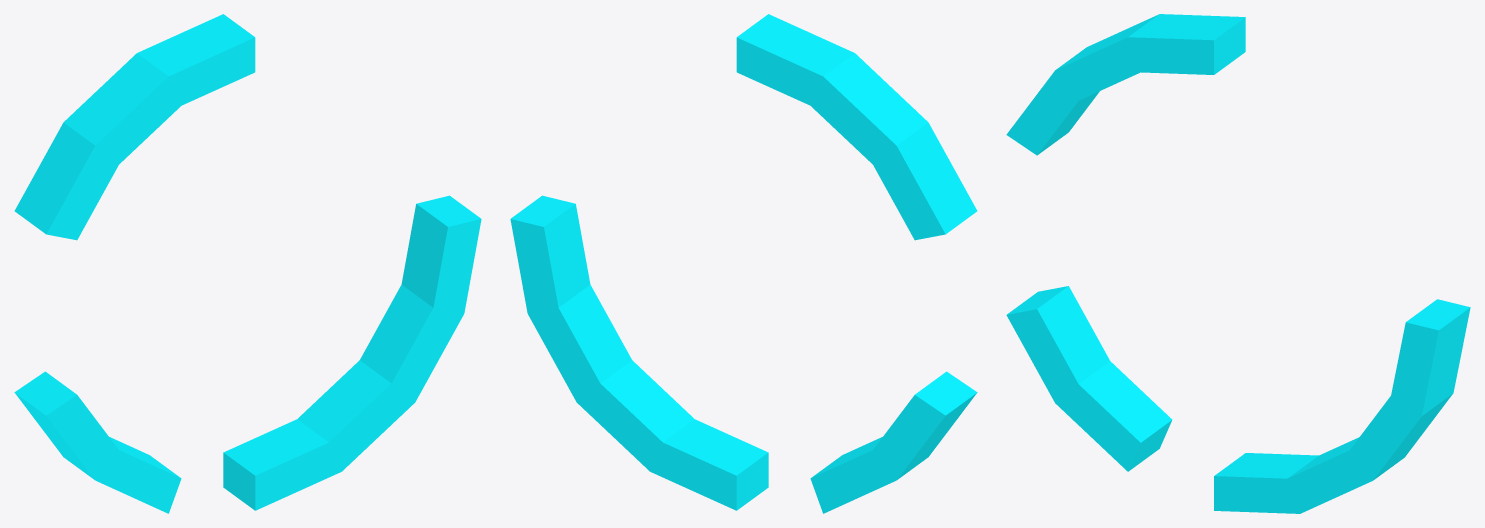
The model's file is SM_Hud_Rings_02.glb.
3 renders of one model, left to right at view 1: azimuth 30°, elevation 25°; view 2: azimuth 150°, elevation 25°; view 3: azimuth 330°, elevation 25°, orthographic.
Parts seen in each view (by area): view 1: SM_Hud_Rings_02; view 2: SM_Hud_Rings_02; view 3: SM_Hud_Rings_02.
Part boxes in pixels (x1,y1,x2,y2): SM_Hud_Rings_02: (14, 14, 481, 513); SM_Hud_Rings_02: (510, 14, 977, 513); SM_Hud_Rings_02: (1006, 14, 1470, 513).
Bounding box in the file's own units: 0.1714 × 0.1781 × 0.0217.
